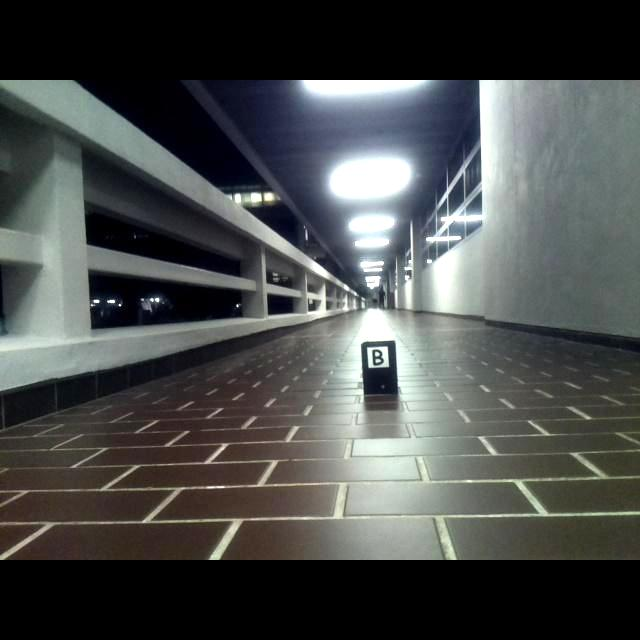B: (372, 350, 384, 367)
